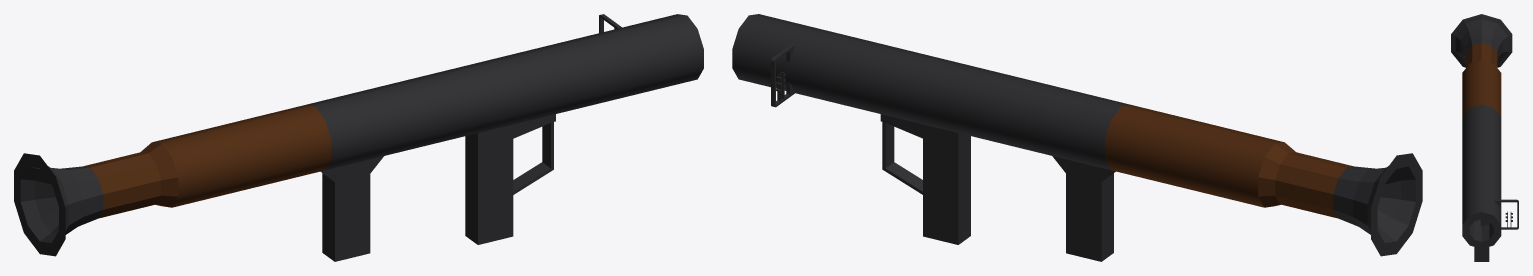
The model's file is RPG.fbx.
3 renders of one model, left to right at view 1: azimuth 30°, elevation 25°; view 2: azimuth 150°, elevation 25°; view 3: azimuth 270°, elevation 25°, orthographic. The views are drawn at different scales.
Visible parts, largest first — view 1: Body; view 2: Body; view 3: Body.
Boxes of the visible parts, x1,y1,x2,y2 form: Body: (14,14,703,261); Body: (732,14,1422,261); Body: (1451,14,1518,261).
Bounding box in the file's own units: 1085 × 305 × 166.
